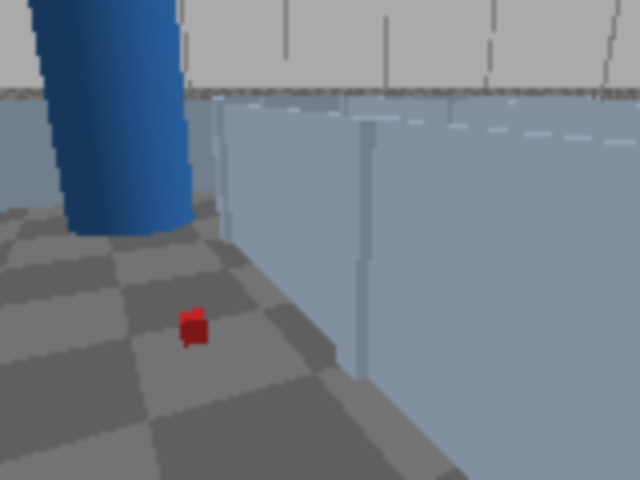puck: (180, 309, 208, 347)
